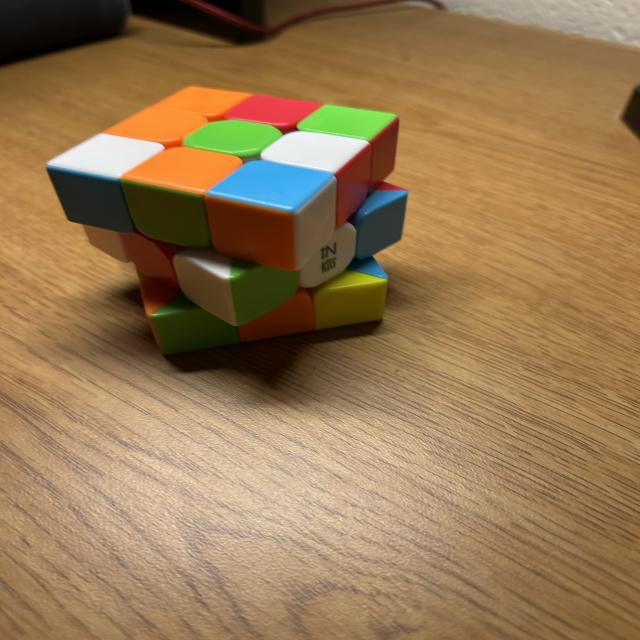Rubiks Cube: (44, 85, 409, 355)
